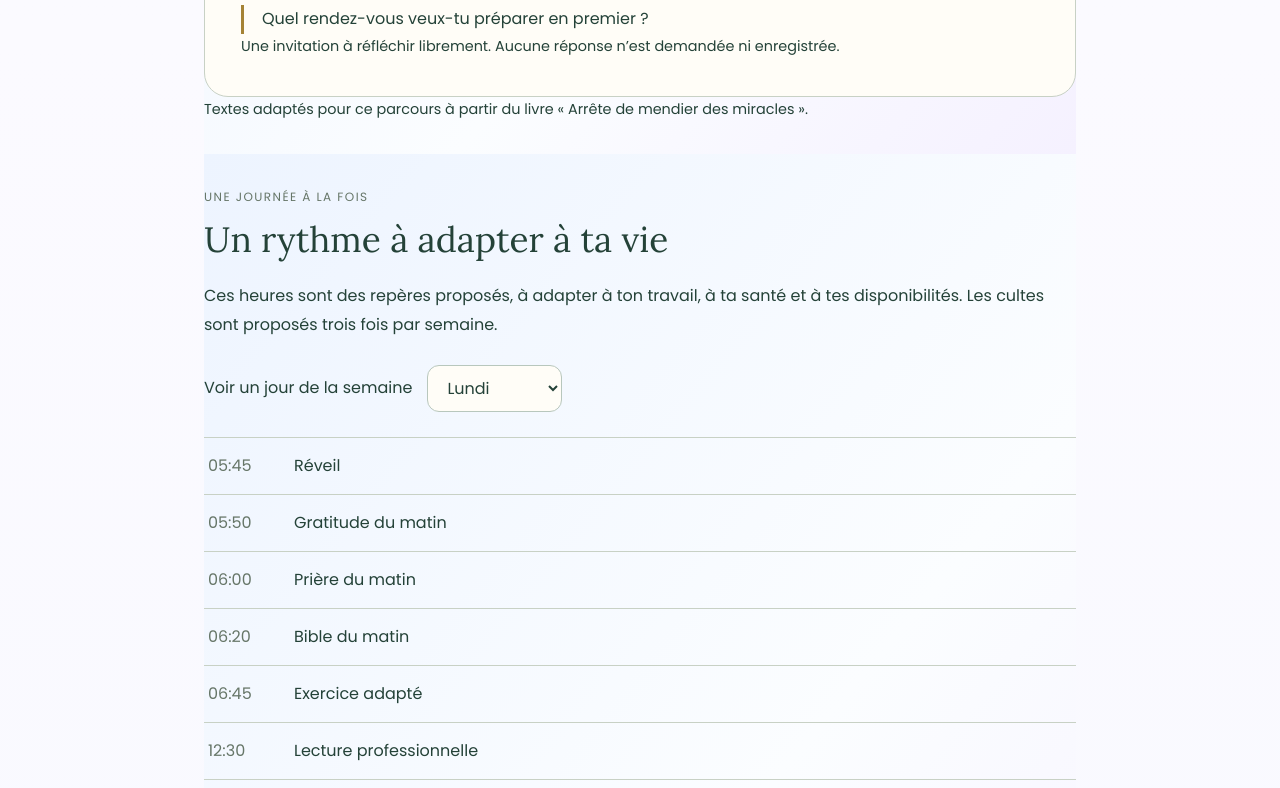
publie un aperçu explicite et permet de parcourir les trois jours de culte
The width and height of the screenshot is (1280, 788).
(page scrolled)
Select "Mercredi" in the dropdown labelled "Voir un jour de la semaine". click: (495, 388)
box: [427,365,562,412]
(page scrolled)
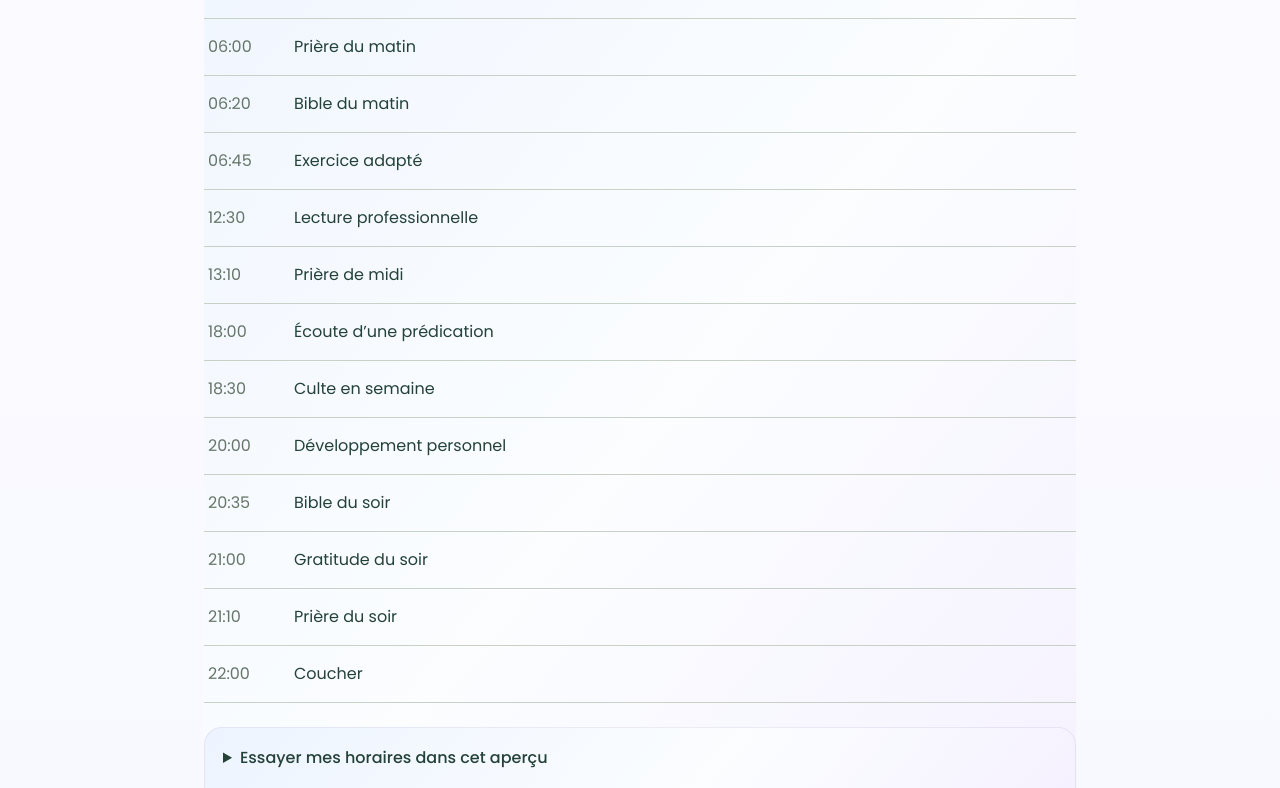
Check: the text "Culte en semaine" is shown, box [294,377,435,400]
